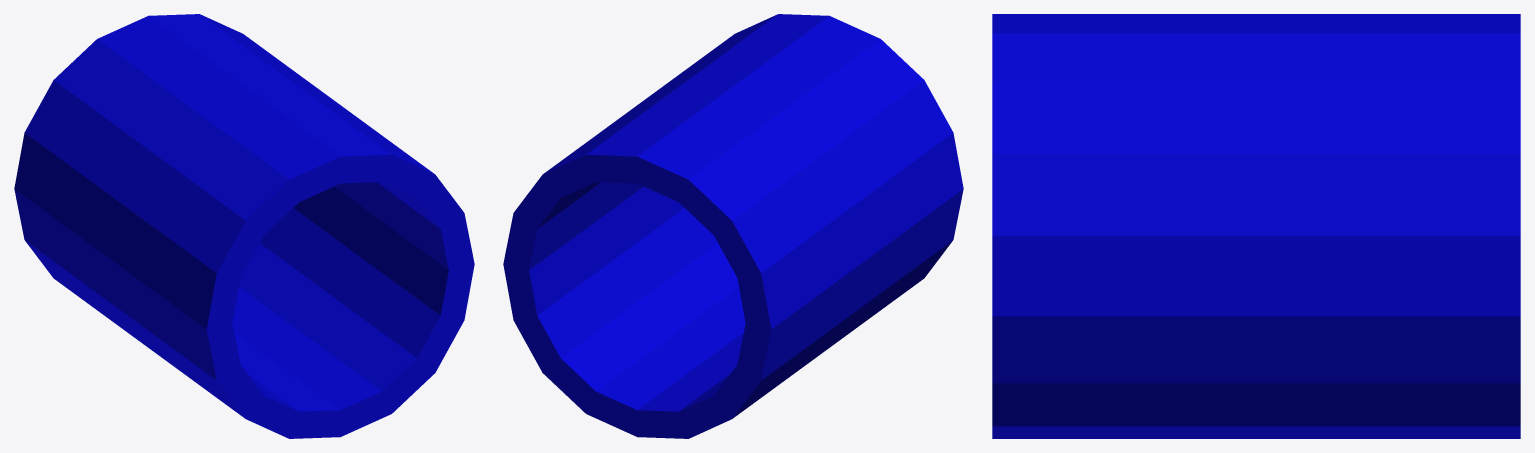
The model's file is Solenoid.gltf.
The picture shows the model from 3 angles, left to right: view 1: azimuth 30°, elevation 25°; view 2: azimuth 150°, elevation 25°; view 3: azimuth 270°, elevation 25°; orthographic projection. The views are drawn at different scales.
Parts seen in each view (by area): view 1: Solenoid; view 2: Solenoid; view 3: Solenoid.
Boxes of the visible parts, bbox=[...] form: Solenoid: bbox=[14, 14, 474, 438]; Solenoid: bbox=[503, 14, 963, 438]; Solenoid: bbox=[992, 14, 1520, 438].
Size of the model in its own units: 3713 by 3713 by 4614.
